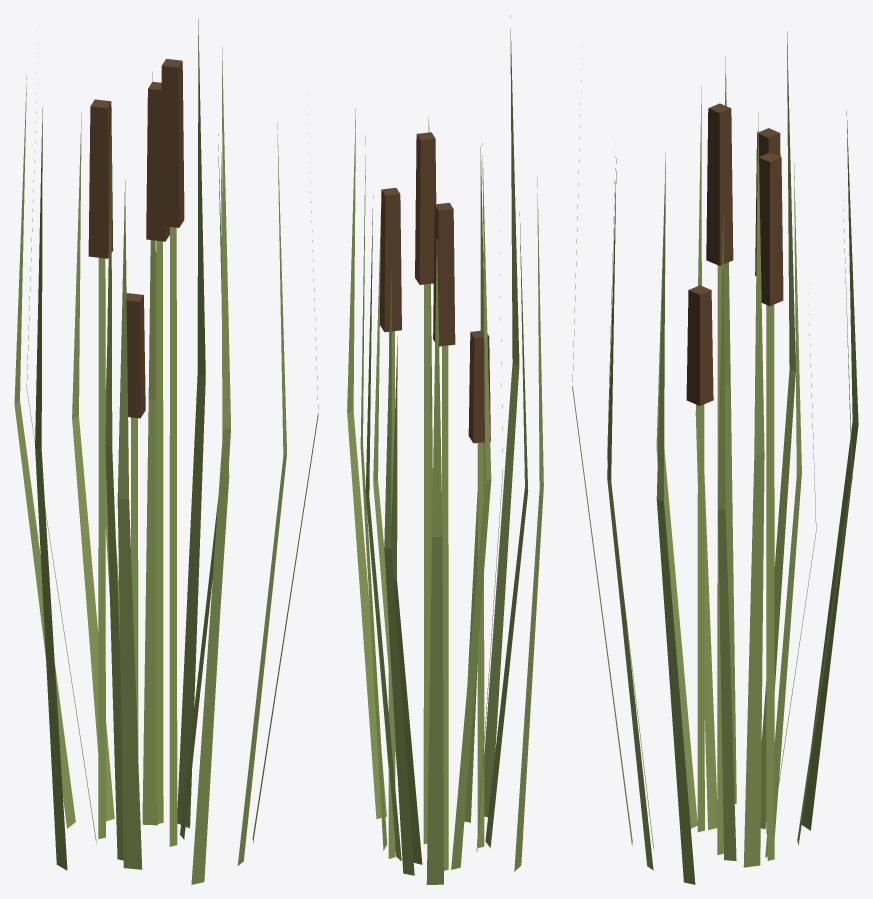
File: grass_11.glb
3 views of the same model, side by side, from view 1: azimuth 30°, elevation 25°; view 2: azimuth 150°, elevation 25°; view 3: azimuth 270°, elevation 25° (orthographic). The views are drawn at different scales.
Parts seen in each view (by area): view 1: 草_11; view 2: 草_11; view 3: 草_11.
Part boxes in pixels (box(x1,y1,x2,y2)): 草_11: box(14, 19, 318, 884); 草_11: box(347, 15, 543, 884); 草_11: box(572, 31, 858, 884).
Size of the model in its own units: 0.5658 by 1.9 by 0.593.
